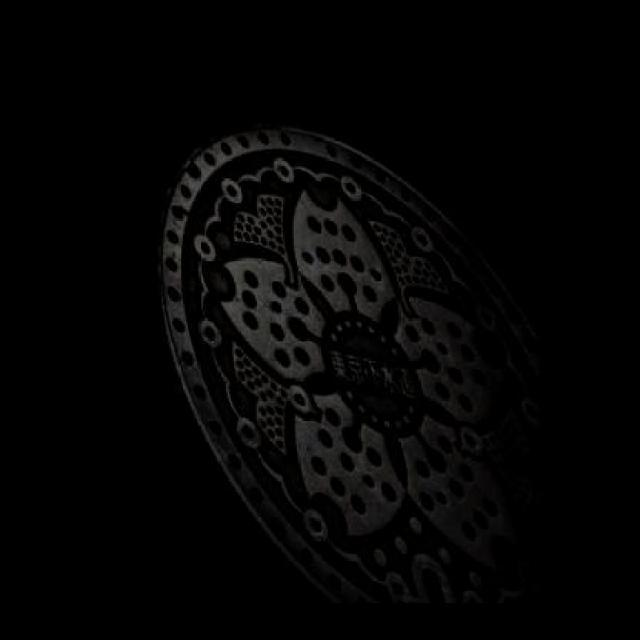Manhole: (88, 46, 538, 603)
